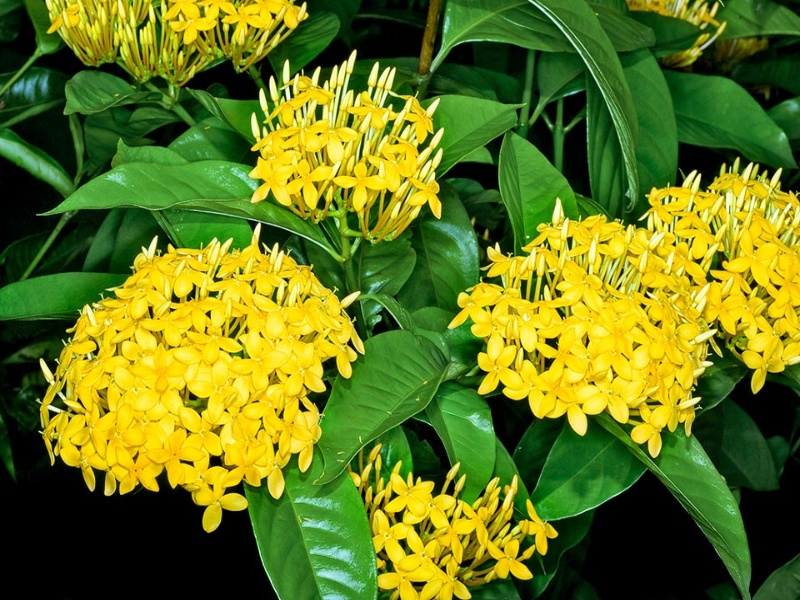Ixora: (18, 215, 368, 538), (450, 140, 800, 462), (222, 29, 475, 248), (336, 429, 562, 600)
